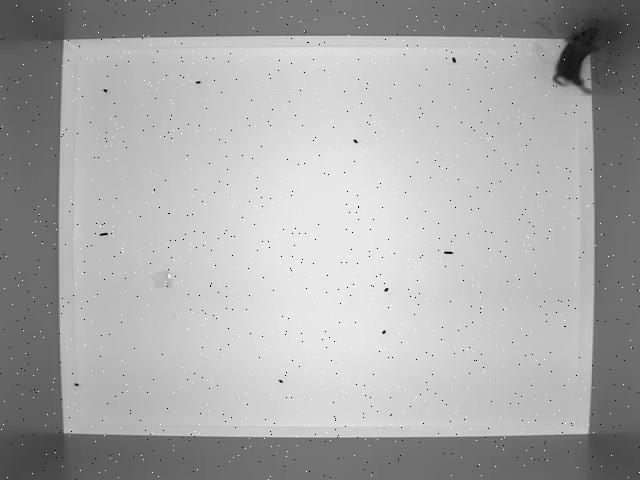Tikus: (551, 23, 602, 96)
